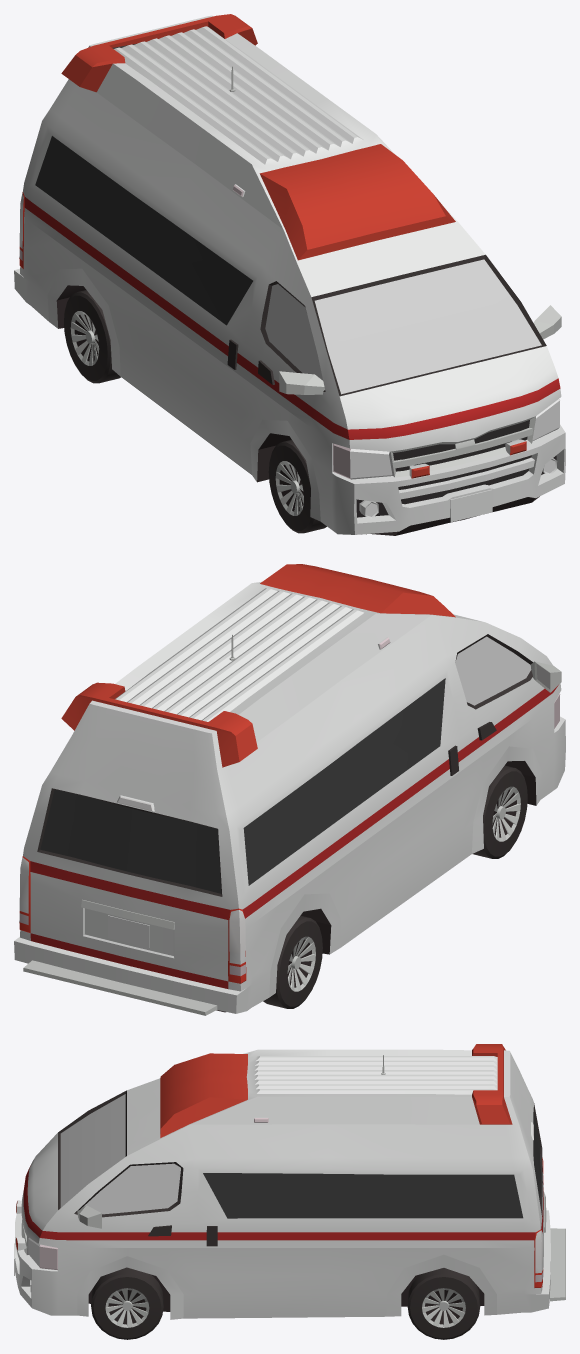
File: ambulance.glb
3 views of the same model, one above another, from view 1: azimuth 30°, elevation 25°; view 2: azimuth 150°, elevation 25°; view 3: azimuth 270°, elevation 25° (orthographic). The views are drawn at different scales.
Visible parts, largest first — view 1: prop; view 2: prop; view 3: prop.
Boxes of the visible parts, x1,y1,x2,y2 form: prop: [14, 14, 565, 535]; prop: [14, 564, 565, 1015]; prop: [14, 1044, 565, 1339].
Size of the model in its own units: 2.23 by 2.45 by 5.01.
1 material, 1 textured.
